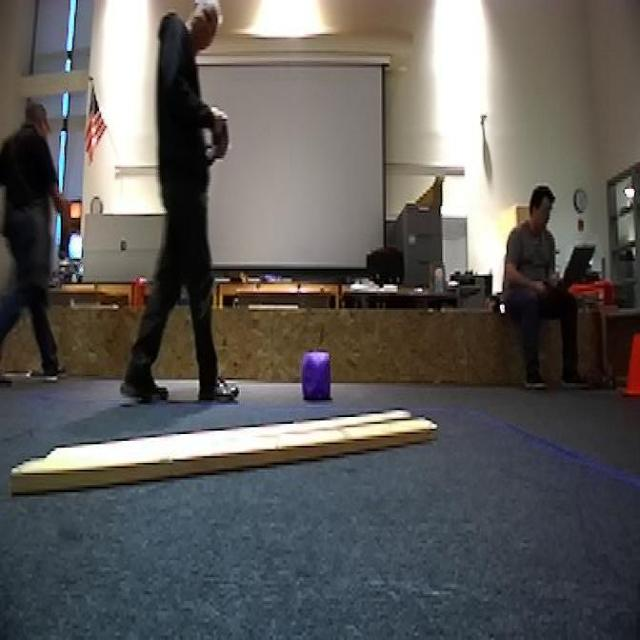frc_cube: (298, 354, 334, 402)
